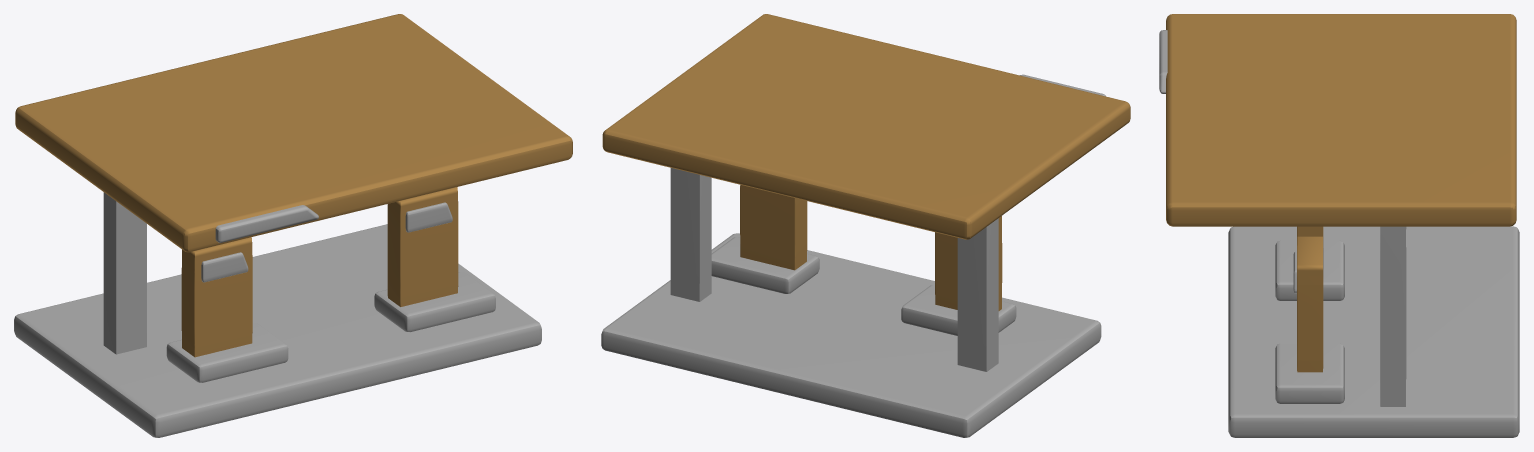
3 renders of one model, left to right at view 1: azimuth 30°, elevation 25°; view 2: azimuth 150°, elevation 25°; view 3: azimuth 270°, elevation 25°, orthographic. The views are drawn at different scales.
Visible parts, largest first — view 1: pCube92; view 2: pCube92; view 3: pCube92.
Part boxes in pixels (x1,y1,x2,y2): pCube92: [14, 14, 572, 437]; pCube92: [601, 14, 1130, 437]; pCube92: [1159, 14, 1519, 437].
Size of the model in its own units: 77.98 by 45.08 by 61.54.
